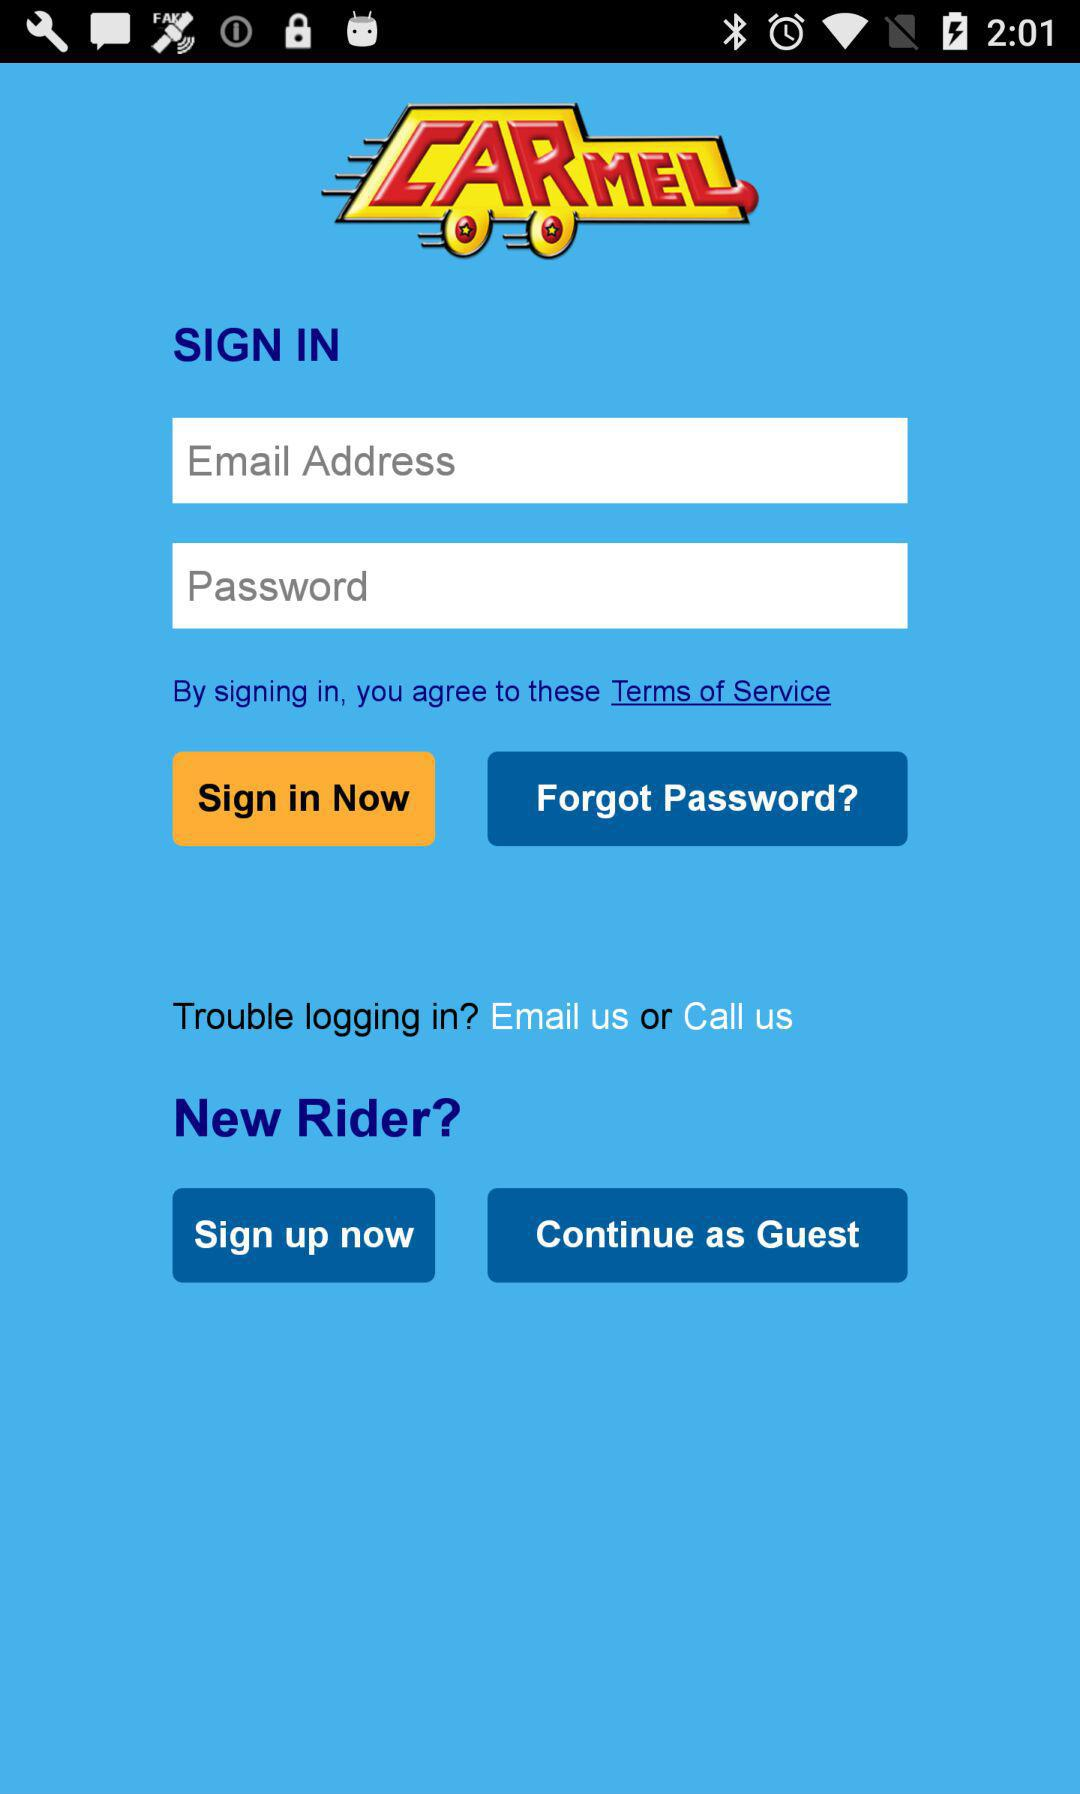EditText: (172, 543, 910, 630), (172, 418, 910, 505)
Image: (319, 103, 761, 261)
Text: (173, 1001, 794, 1039), (176, 679, 831, 709), (176, 1097, 462, 1138), (190, 443, 456, 477), (173, 327, 340, 364), (190, 572, 368, 602)
TextButton: (487, 1188, 910, 1284), (487, 752, 908, 847), (172, 752, 437, 847), (173, 1188, 436, 1283)
UpperTaskBar: (1, 1, 1080, 64)
